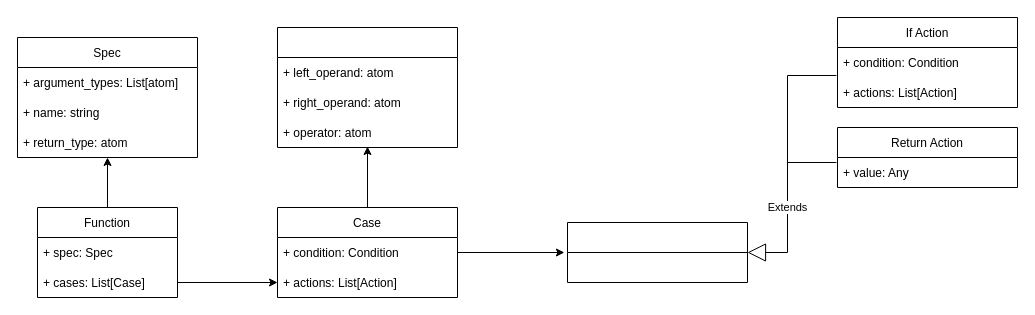
This 1035x315 diagram has some shape labels left out. The box of each missing label's shape, as (x1, y1, x2, y2) in pixels:
Action: (566, 222, 748, 282)
Condition: (276, 26, 458, 148)
